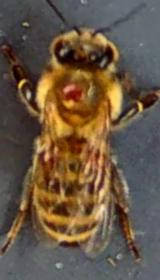varroa_mite: (58, 76, 88, 105)
